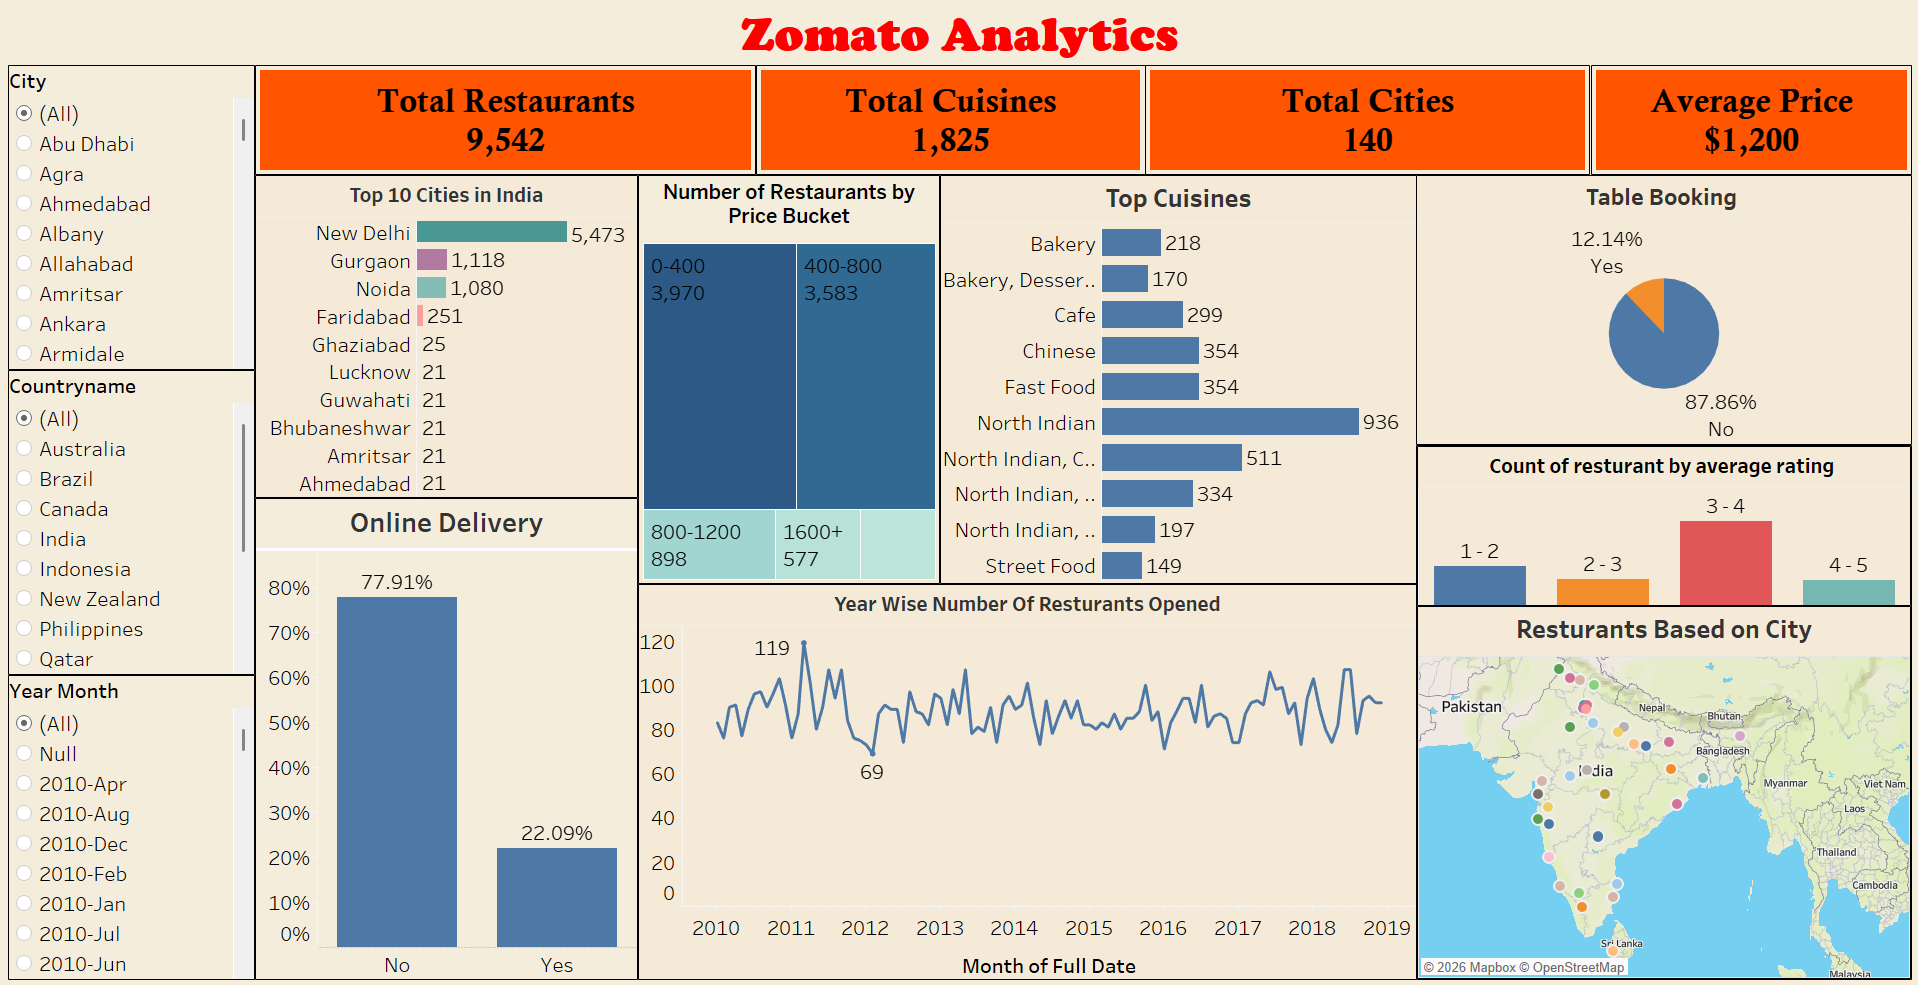

The page's visual inventory and layout, read from the dashboard file:
{"tool":"tableau","page":{"name":"Dashboard 2","canvas":[1000,1000],"units":"permille","ordinal":1},"visuals":[{"type":"text","box":[4.8,10,990.3,62.4]},{"type":"filter","title":"q8","param":"[federated.0ddr3v80vnb7su1dqvz9v0ssqvry].[none:City:nk]","box":[4.8,72.3,128.4,305.9]},{"type":"worksheet","title":"Total Rest","mark":"Automatic","box":[133.8,73.6,259.3,107.4]},{"type":"worksheet","title":"Total Cuisine","mark":"Automatic","box":[394.3,73.6,201.6,107.4]},{"type":"worksheet","title":"Total Cities","mark":"Automatic","box":[597.1,73.6,230.3,107.4]},{"type":"worksheet","title":"Avg Cost","mark":"Automatic","box":[828.6,73.6,166,107.4]},{"type":"worksheet","title":"q3","mark":"Automatic","rows":["City"],"cols":["RestaurantID"],"box":[133.2,182.3,199.2,403.2]},{"type":"worksheet","title":"Q6","mark":"Automatic","box":[332.3,182.3,182.3,510.6]},{"type":"worksheet","title":"Q9.cuisines","mark":"Automatic","rows":["Cuisines"],"cols":["RestaurantID"],"box":[514.6,182.3,222.8,510.6]},{"type":"worksheet","title":"q7","mark":"Pie","box":[737.4,182.3,257.7,270.8]},{"type":"filter","title":"q8","param":"[federated.0ddr3v80vnb7su1dqvz9v0ssqvry].[none:Countryname:nk]","box":[4.8,378.2,128.4,305.9]},{"type":"worksheet","title":"Q5","mark":"Automatic","rows":["RestaurantID"],"cols":["Calculation_1709116074036453376"],"box":[738,454.3,256.5,199.8]},{"type":"worksheet","title":"q8","mark":"Automatic","rows":["RestaurantID"],"cols":["Has_Online_delivery"],"box":[133.2,585.5,199.2,404.5]},{"type":"worksheet","title":"Q9.city","mark":"Automatic","box":[738,654,256.5,334.7]},{"type":"filter","title":"q8","param":"[federated.0ddr3v80vnb7su1dqvz9v0ssqvry].[none:YearMonth:nk]","box":[4.8,684.1,128.4,305.9]},{"type":"worksheet","title":"q4","mark":"Automatic","rows":["RestaurantID"],"cols":["Full_Date"],"box":[332.3,692.9,405.1,297.1]}]}

Visuals, with their boxes on the dashboard's canvas, which has no fixed pixel size, in thousandths of its width and height (x1, y1, x2, y2). These are canvas units, not pixel positions in the 1918x985 screenshot, which may show the page scaled, cropped or inside an application window:
text: (5,10,995,72)
"q8" filter: (5,72,133,378)
"Total Rest" worksheet: (134,74,393,181)
"Total Cuisine" worksheet: (394,74,596,181)
"Total Cities" worksheet: (597,74,827,181)
"Avg Cost" worksheet: (829,74,995,181)
"q3" worksheet: (133,182,332,586)
"Q6" worksheet: (332,182,515,693)
"Q9.cuisines" worksheet: (515,182,737,693)
"q7" worksheet (Pie marks): (737,182,995,453)
"q8" filter: (5,378,133,684)
"Q5" worksheet: (738,454,994,654)
"q8" worksheet: (133,586,332,990)
"Q9.city" worksheet: (738,654,994,989)
"q8" filter: (5,684,133,990)
"q4" worksheet: (332,693,737,990)
